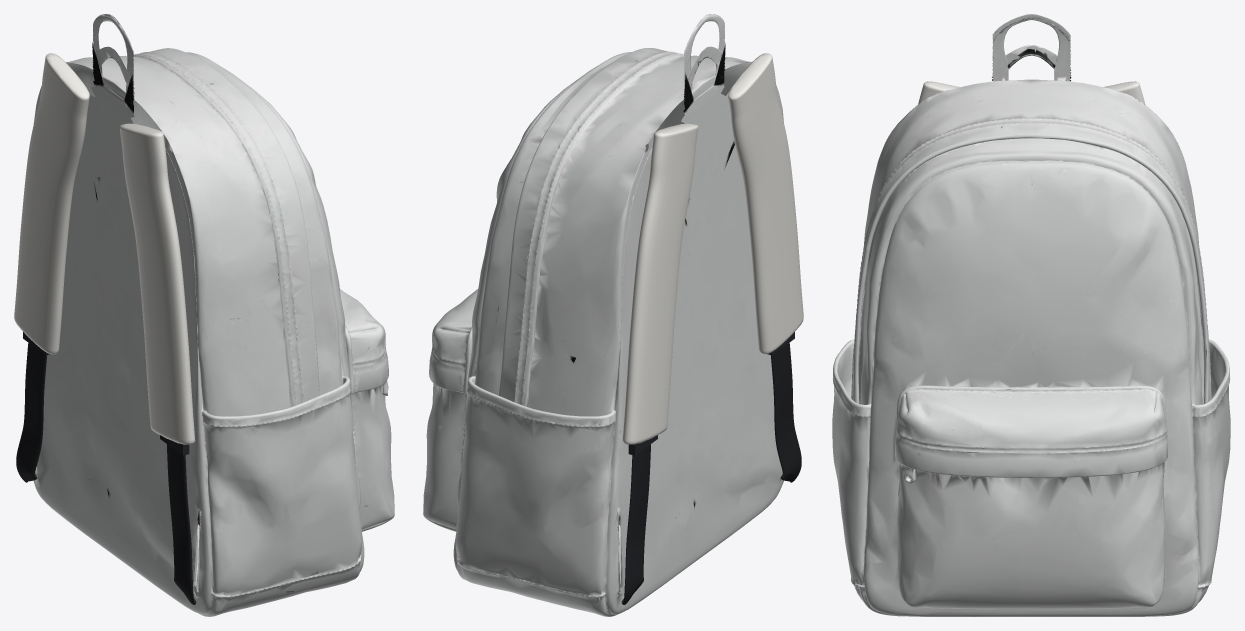
File: backpack.glb
3 views of the same model, side by side, from view 1: azimuth 30°, elevation 25°; view 2: azimuth 150°, elevation 25°; view 3: azimuth 270°, elevation 25° (orthographic). The views are drawn at different scales.
Parts seen in each view (by area): view 1: Backpack; view 2: Backpack; view 3: Backpack.
Part boxes in pixels (left/top/right/bottom): Backpack: left=14, top=14, right=394, bottom=616; Backpack: left=423, top=14, right=803, bottom=616; Backpack: left=832, top=14, right=1230, bottom=616.
Size of the model in its own units: 0.2847 by 0.5983 by 0.4073.
4 materials, 1 textured.
